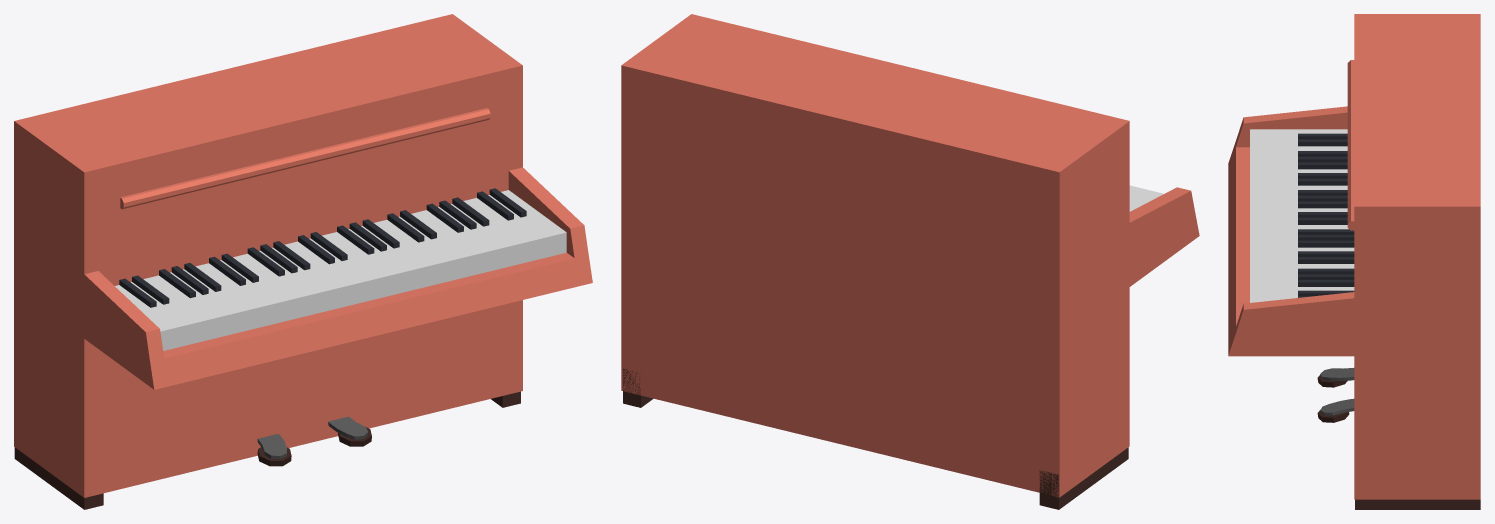
File: Piyano.fbx
3 renders of one model, left to right at view 1: azimuth 30°, elevation 25°; view 2: azimuth 150°, elevation 25°; view 3: azimuth 270°, elevation 25°, orthographic. The views are drawn at different scales.
Visible parts, largest first — view 1: Piyano; view 2: Piyano; view 3: Piyano.
Boxes of the visible parts, bbox=[...] form: Piyano: bbox=[14, 14, 592, 509]; Piyano: bbox=[621, 14, 1199, 509]; Piyano: bbox=[1228, 14, 1480, 509].
Size of the model in its own units: 5.44 by 4 by 3.01.
